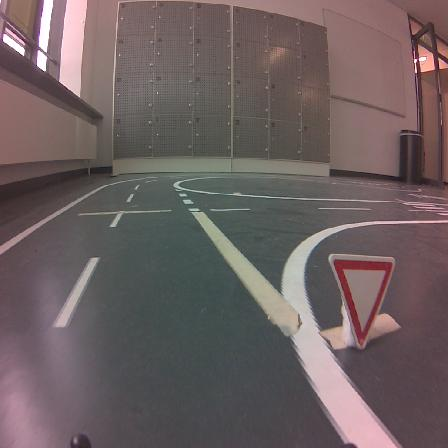GIVE_WAY: (329, 254, 394, 348)
